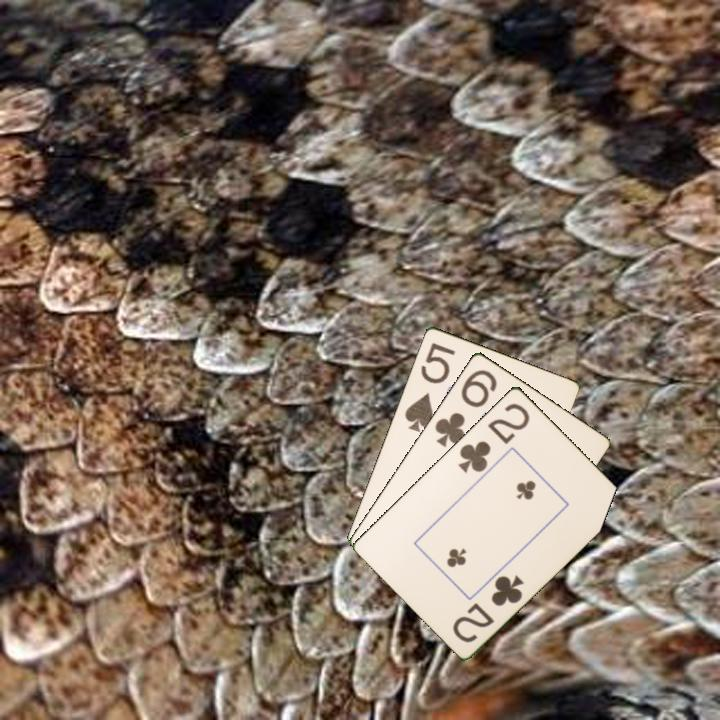2c: (454, 399, 533, 475), (449, 571, 527, 645)
5s: (401, 339, 458, 435)
6c: (431, 365, 500, 450)
